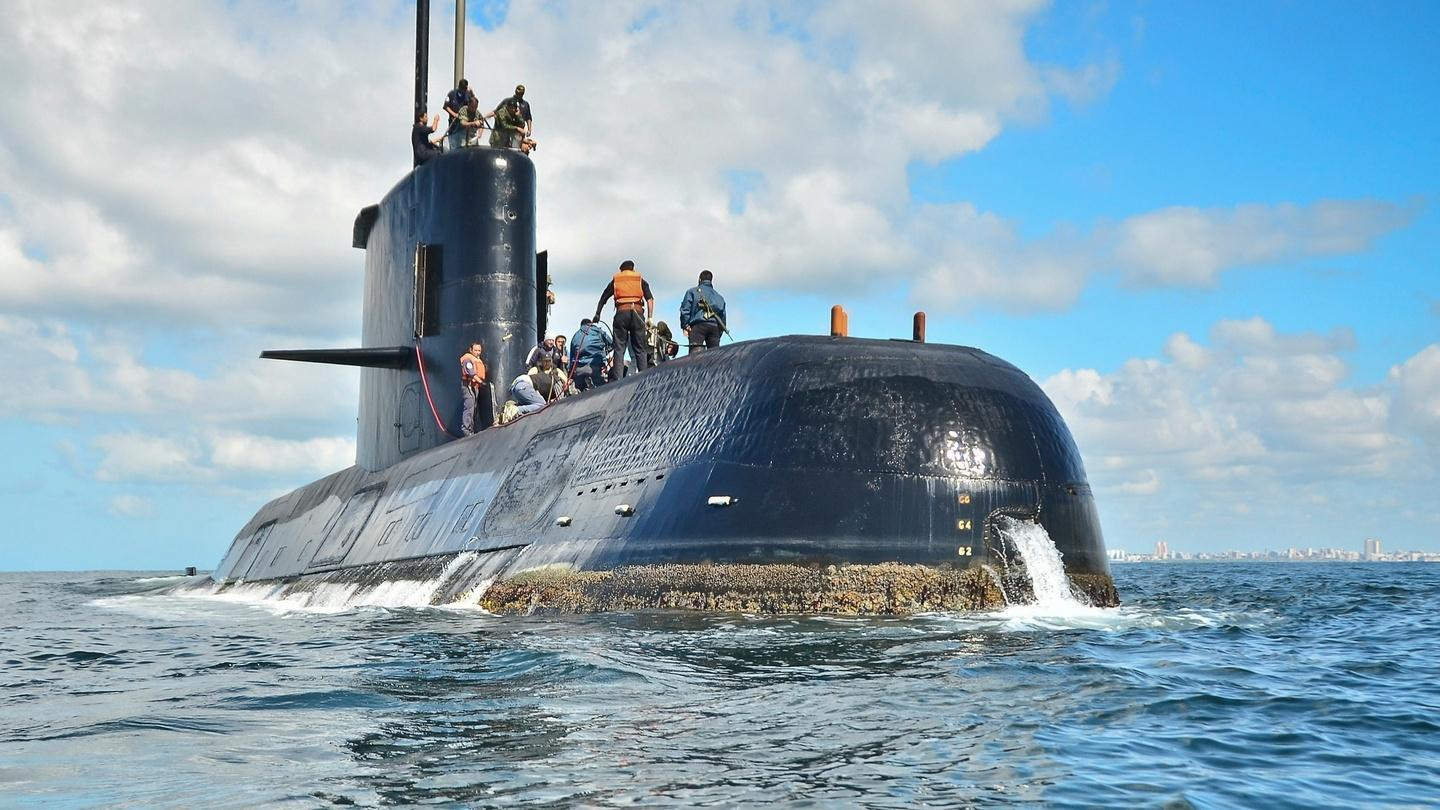Submarine: (104, 62, 1216, 738)
